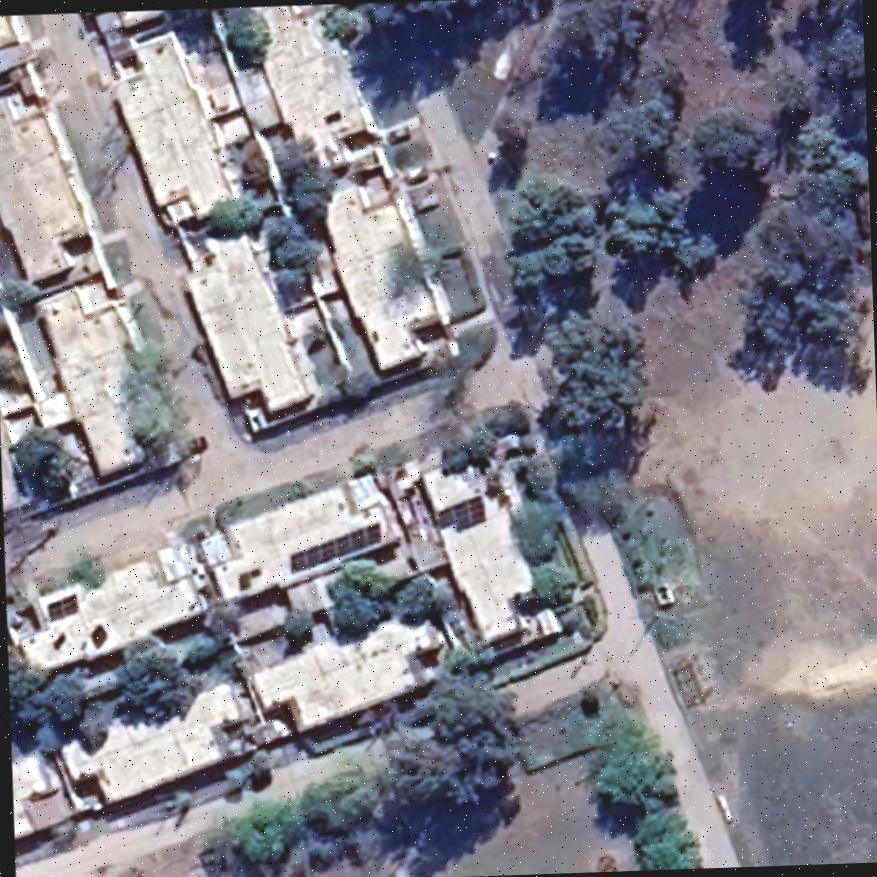Solarpanel: (285, 522, 388, 578), (429, 489, 491, 538), (41, 592, 82, 627)
